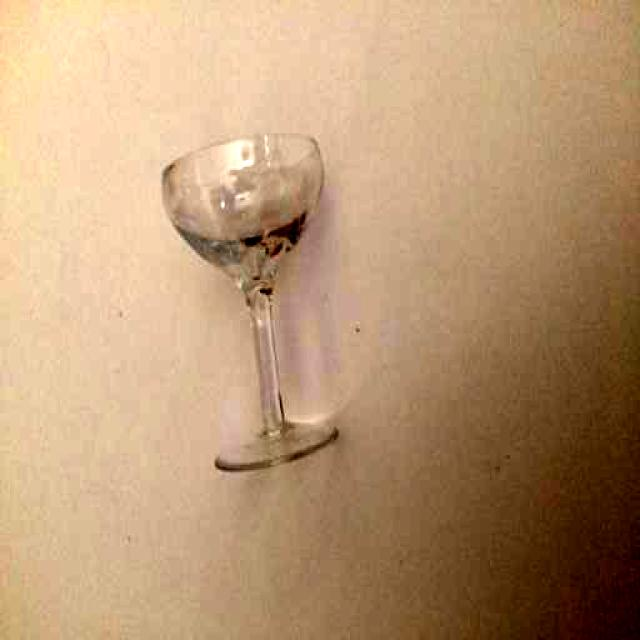Glass: (162, 133, 339, 471)
